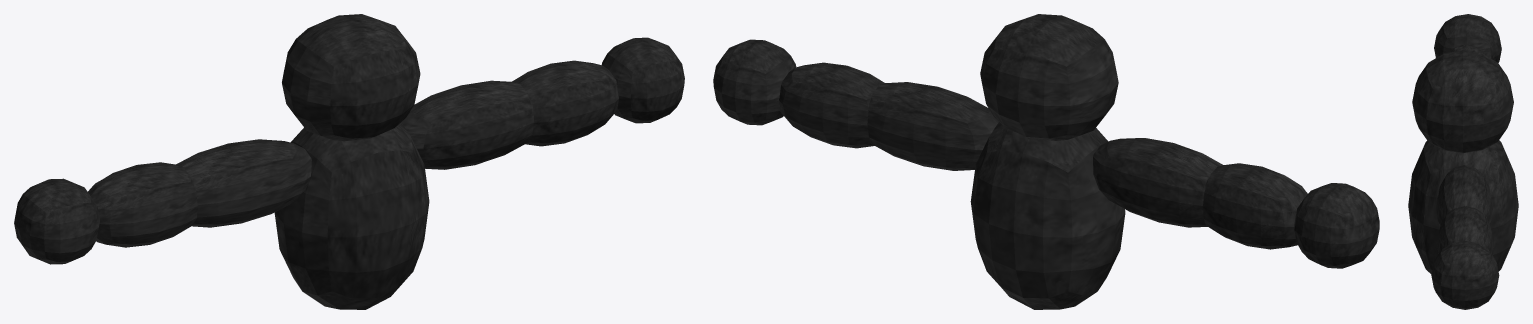
File: badger.fbx
The picture shows the model from 3 angles, left to right: view 1: azimuth 30°, elevation 25°; view 2: azimuth 150°, elevation 25°; view 3: azimuth 270°, elevation 25°; orthographic projection. The views are drawn at different scales.
Parts seen in each view (by area): view 1: Cube.002; view 2: Cube.002; view 3: Cube.002.
Boxes of the visible parts, x1,y1,x2,y2 form: Cube.002: (14, 14, 684, 309); Cube.002: (713, 14, 1379, 309); Cube.002: (1408, 14, 1518, 309).
Bounding box in the file's own units: 807 × 336 × 147.
Materials: 1 (1 with a texture image).
